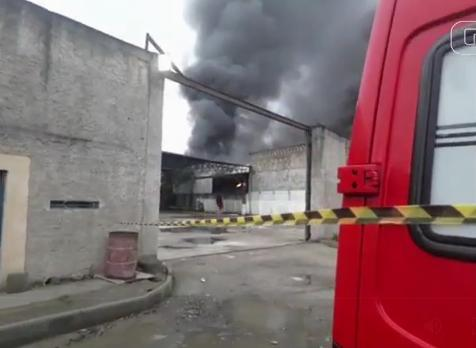smoke: (202, 5, 350, 85)
